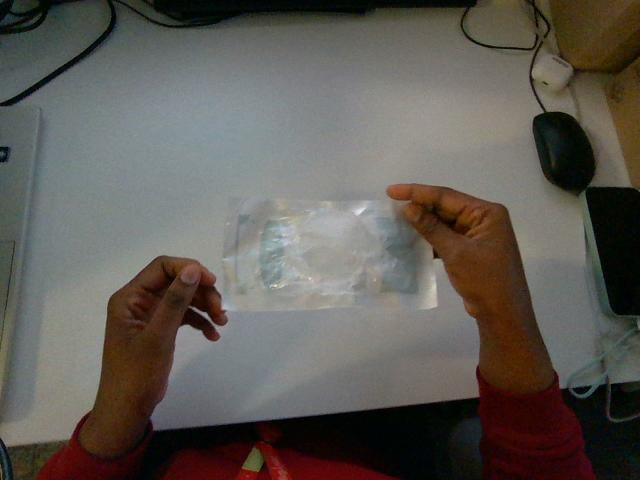gallipot: (223, 198, 436, 310)
